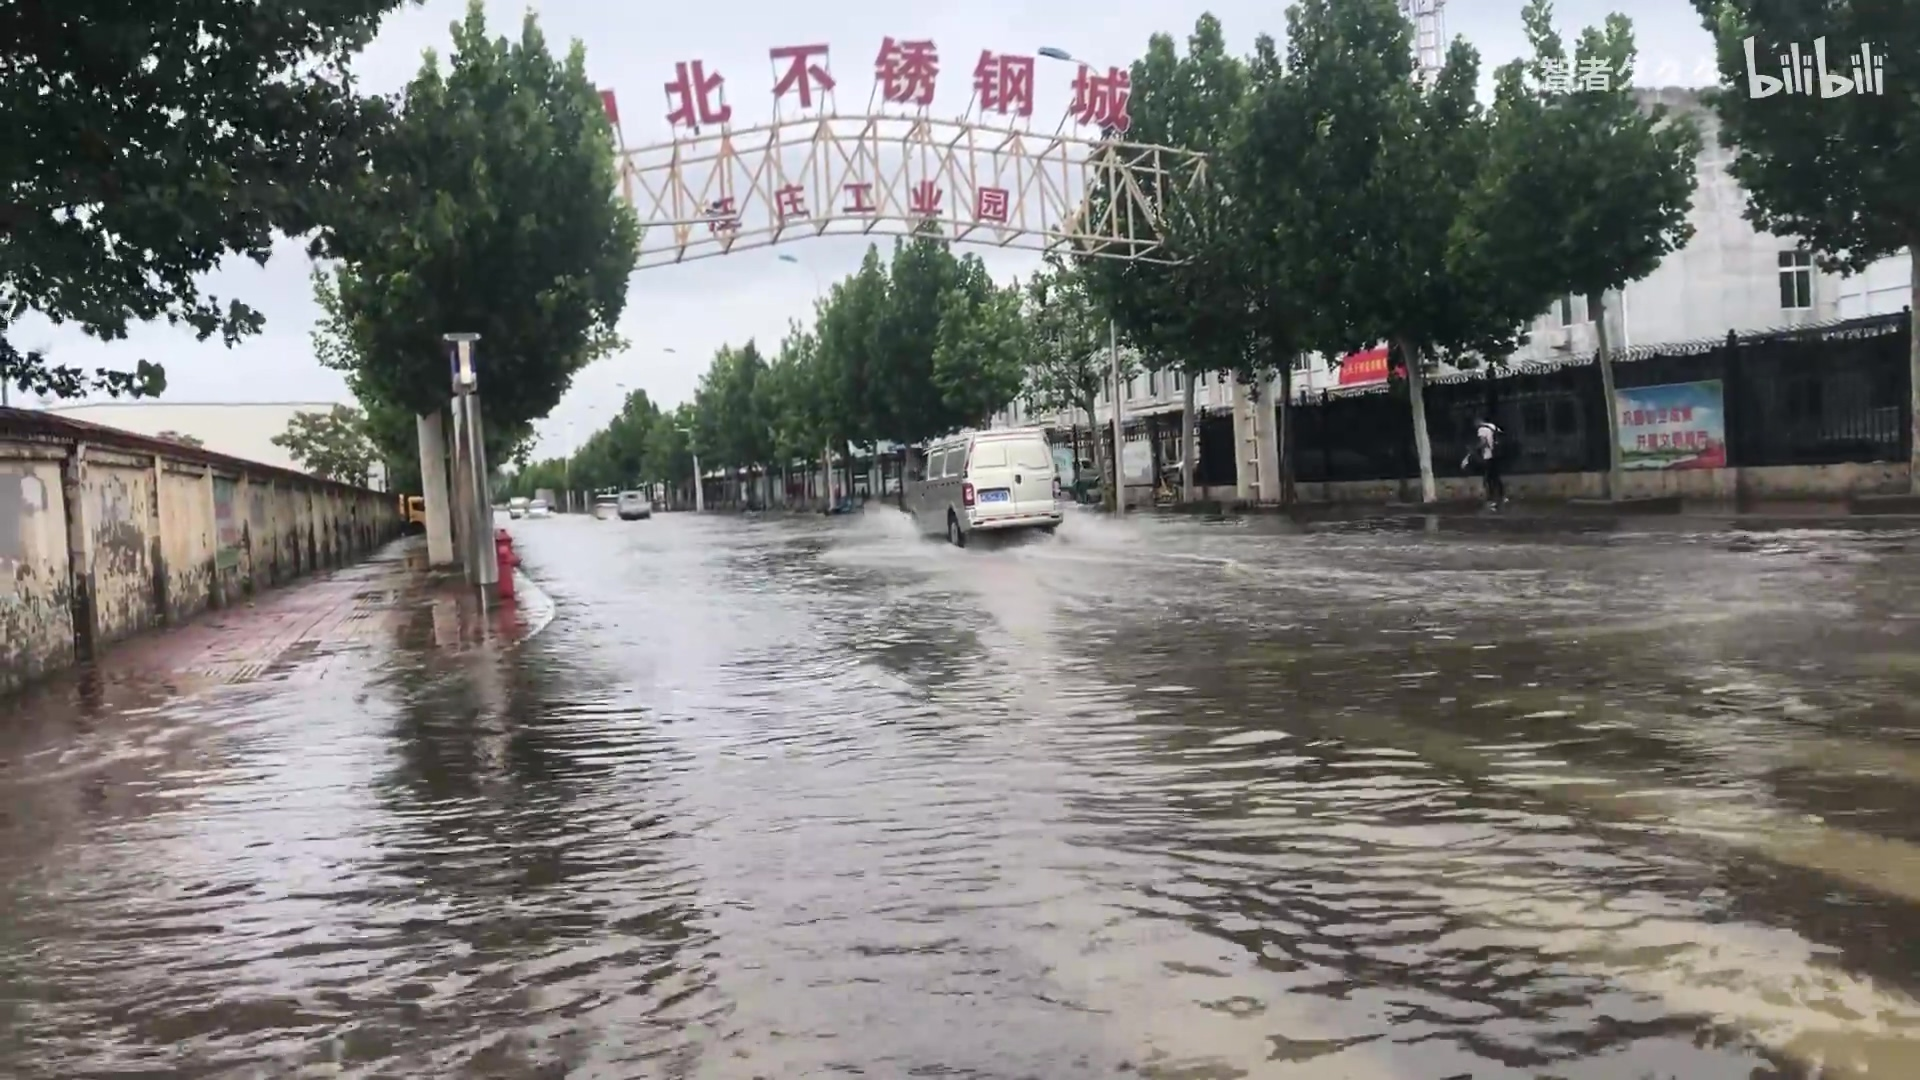puddle: (1, 535, 1920, 1080)
